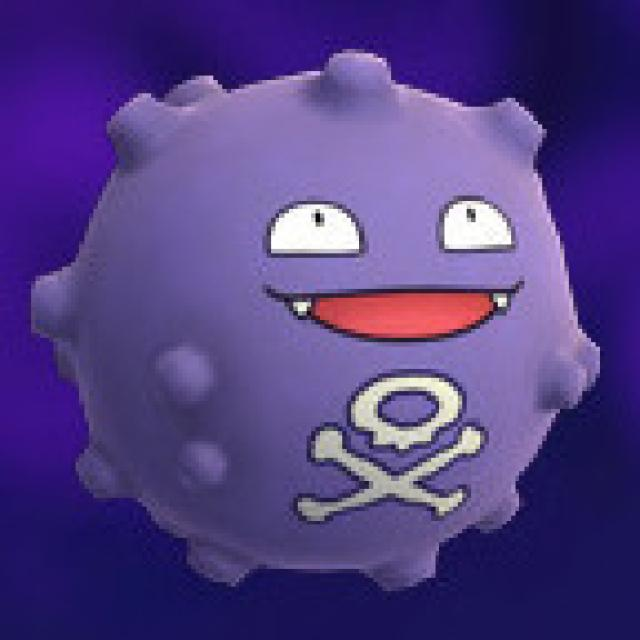Koffing: (30, 51, 590, 603)
